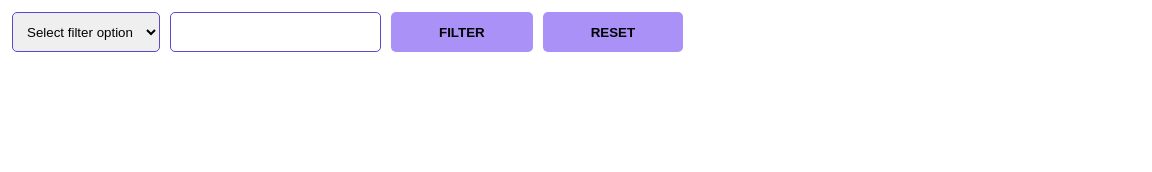
Test: Filter component › displays error when filter criteria are incomplete
The width and height of the screenshot is (1152, 172).
Click the button "Filter".
click(462, 32)  # box [391, 12, 533, 52]
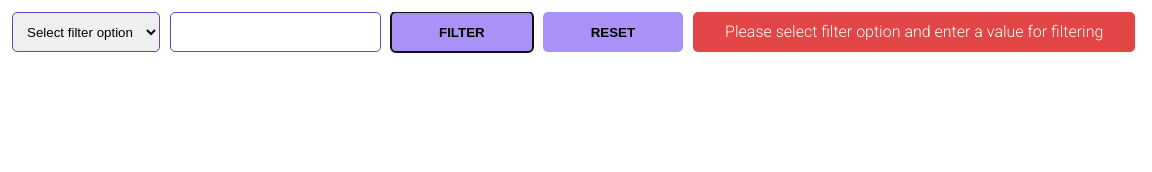
Check: the text "Please select filter option and enter a value for filtering" is shown, box [693, 12, 1135, 52]
